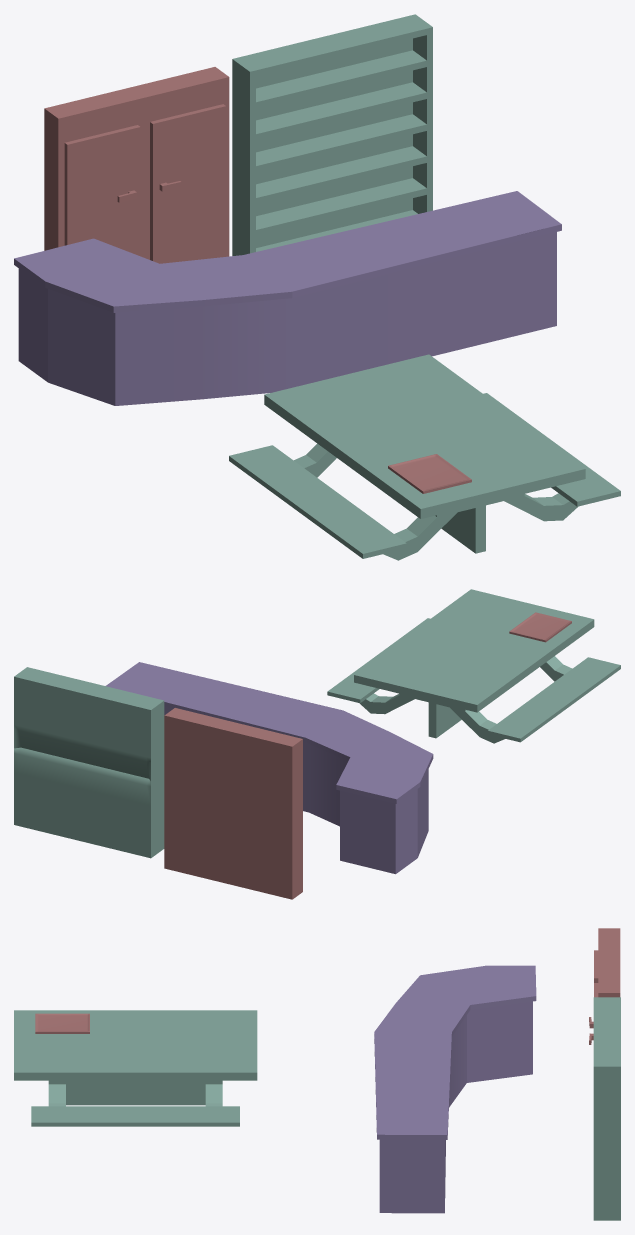
Rendered from Cafeteria Furniture.fbx.
3 views of the same model, one above another, from view 1: azimuth 30°, elevation 25°; view 2: azimuth 150°, elevation 25°; view 3: azimuth 270°, elevation 25° (orthographic). The views are drawn at different scales.
Parts seen in each view (by area): view 1: Food_Bar, Food_Shelves, Cafeteria_Table, Fridge, Food_Tray; view 2: Food_Shelves, Food_Bar, Fridge, Cafeteria_Table, Food_Tray; view 3: Food_Bar, Cafeteria_Table, Food_Shelves, Fridge, Food_Tray.
Part boxes in pixels (x1,y1,x2,y2): Food_Bar: (14,191,561,405); Food_Shelves: (232,14,432,255); Cafeteria_Table: (229,354,620,560); Fridge: (44,67,229,263); Food_Tray: (388,454,471,493); Food_Shelves: (14,667,164,858); Food_Bar: (106,662,433,874); Fridge: (164,708,302,899); Cafeteria_Table: (327,589,620,743); Food_Tray: (509,612,571,642); Food_Bar: (374,965,536,1213); Cafeteria_Table: (14,1010,257,1126); Food_Shelves: (593,997,620,1220); Fridge: (589,928,620,1044); Food_Tray: (35,1013,89,1033).
Size of the model in its own units: 18.69 by 8.12 by 27.69.
